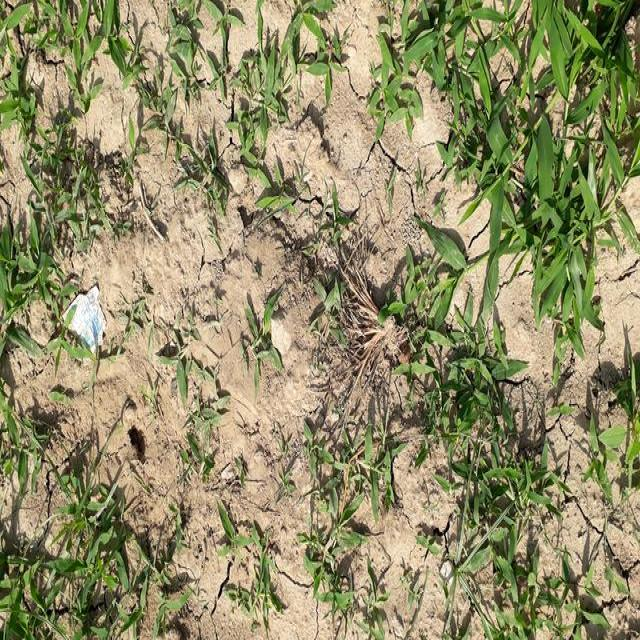weed: (373, 0, 640, 329), (429, 346, 567, 640), (9, 492, 140, 640), (0, 0, 100, 137), (0, 185, 59, 367)
